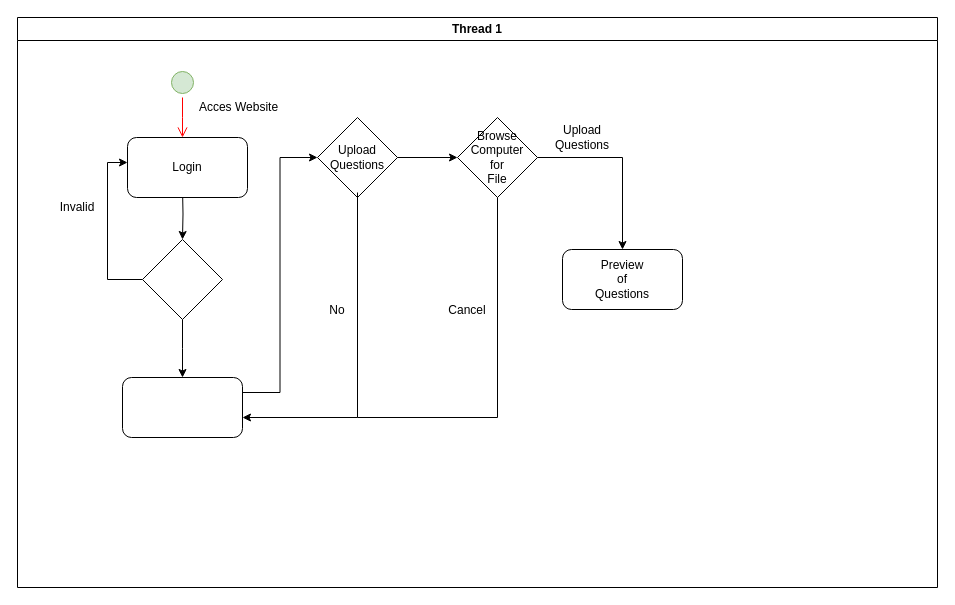
This 955x605 diagram has some shape labels left out. The centre of each missing label's shape, as x and y in pixels:
"Home Page" belongs at point (182, 407).
"Verify Log in Details" belongs at point (182, 279).
